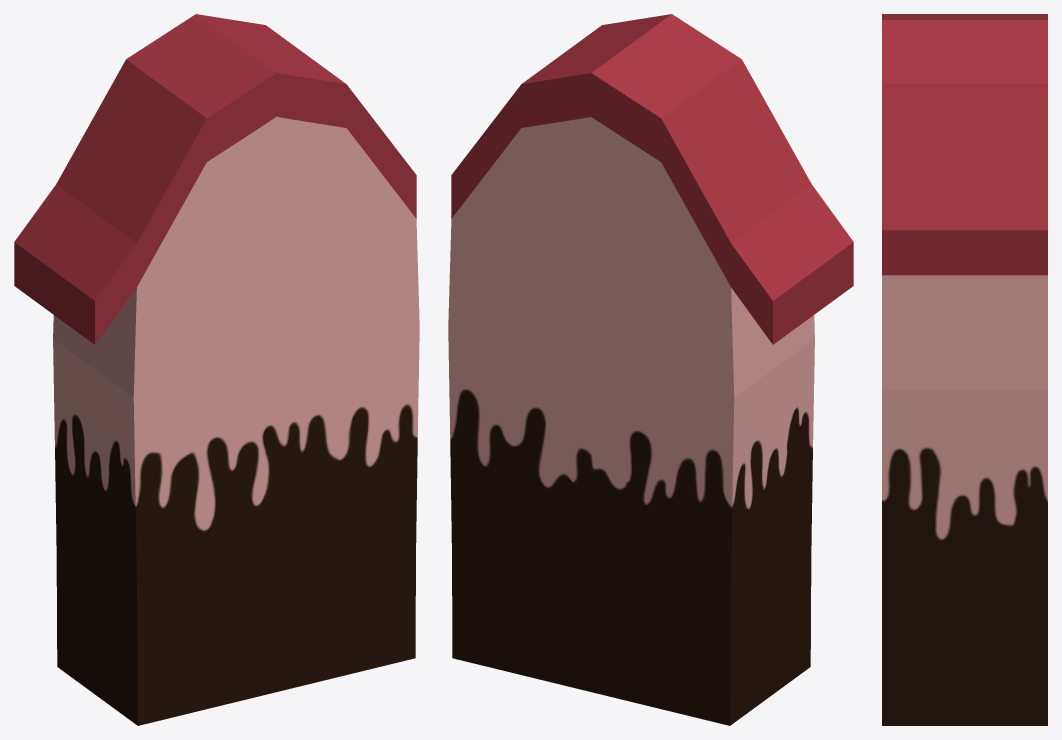
The model's file is Casa_Lateral.FBX.
3 renders of one model, left to right at view 1: azimuth 30°, elevation 25°; view 2: azimuth 150°, elevation 25°; view 3: azimuth 270°, elevation 25°, orthographic. The views are drawn at different scales.
Visible parts, largest first — view 1: Casa_Lado; view 2: Casa_Lado; view 3: Casa_Lado.
Boxes of the visible parts, x1=… form: Casa_Lado: x1=14, y1=14, x2=419, y2=725; Casa_Lado: x1=448, y1=14, x2=853, y2=725; Casa_Lado: x1=882, y1=14, x2=1047, y2=725.
Bounding box in the file's own units: 4.43 × 8.07 × 1.91.
